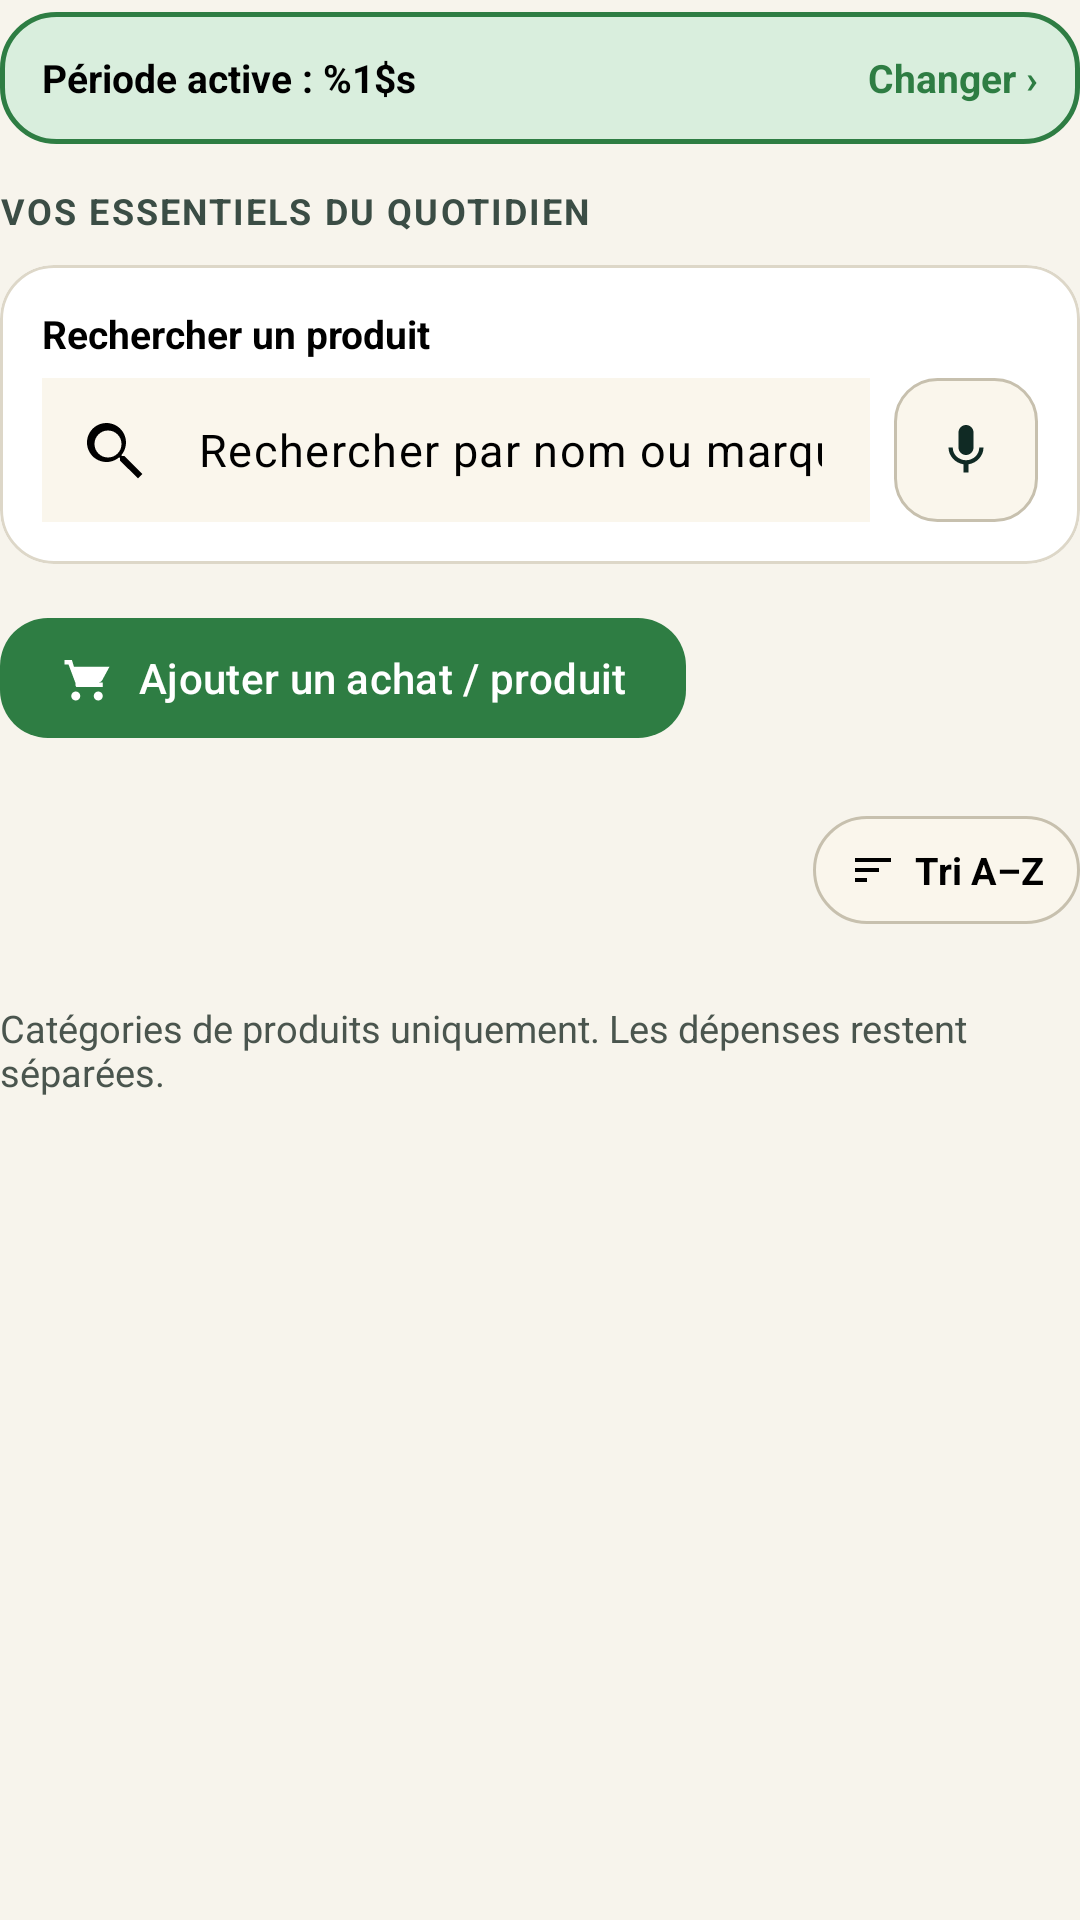

Locate icon controls on the screen. Image size 1080x1920, boxes as [x1,y1,x2,y2].
Dicter ce champ par la voix: [894,378,1038,522]
sort: [855,858,891,882]
